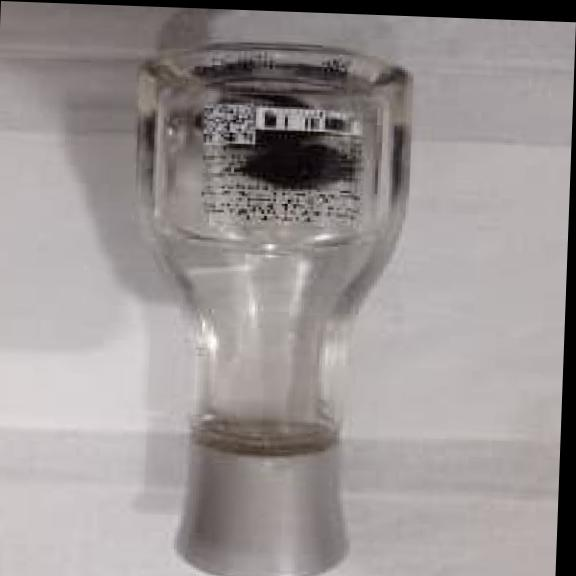Plastik: (138, 46, 406, 576)
